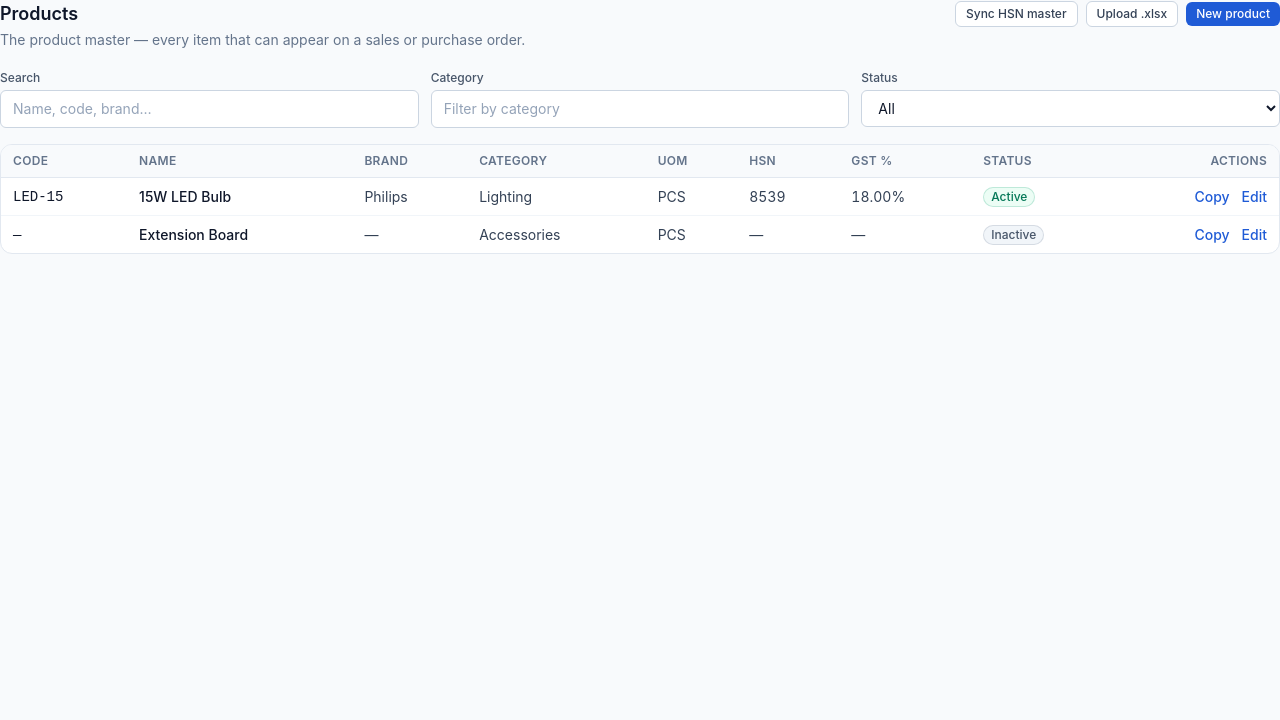
Test case: ProductsPage › blocks an out-of-range gst_rate inline
The width and height of the screenshot is (1280, 720).
Expected: the text "15W LED Bulb" is shown, [127,178,352,216]
Click the button "New product": [1233, 14] box [1186,2,1279,26]
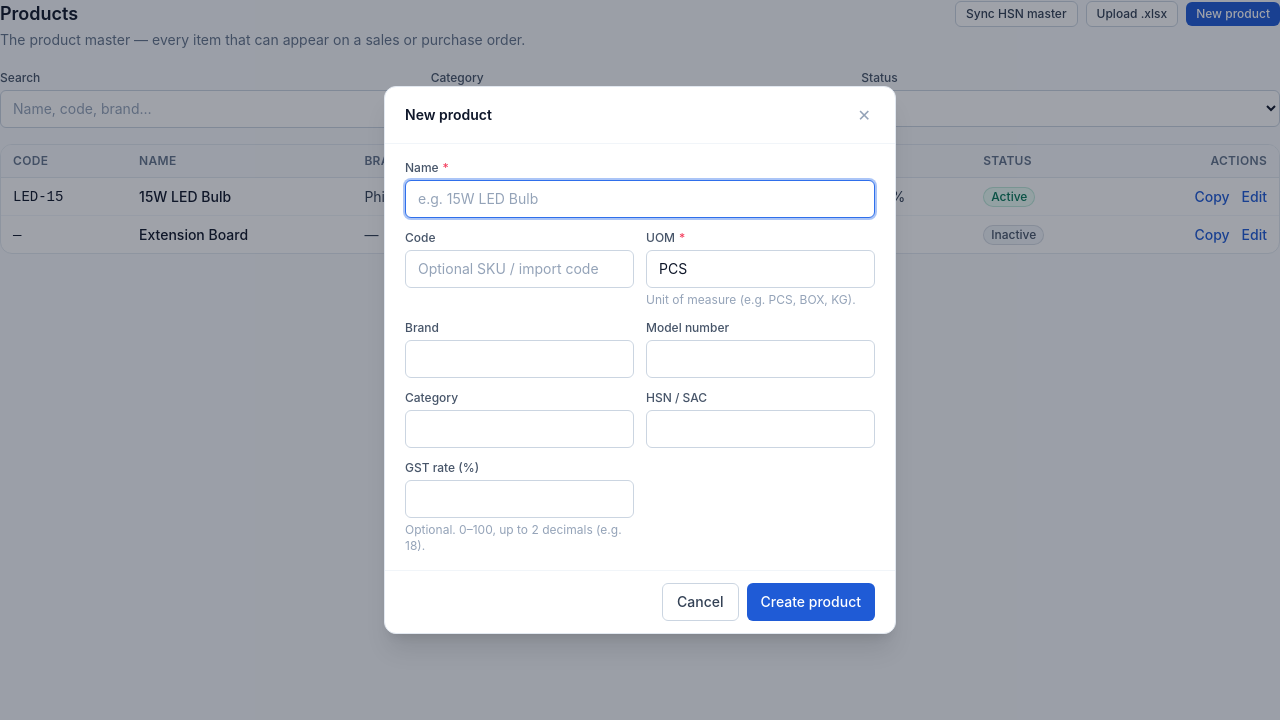
In the field labelled "Name *": [640, 199] box [405,180,875,218], type "Bad Tax"
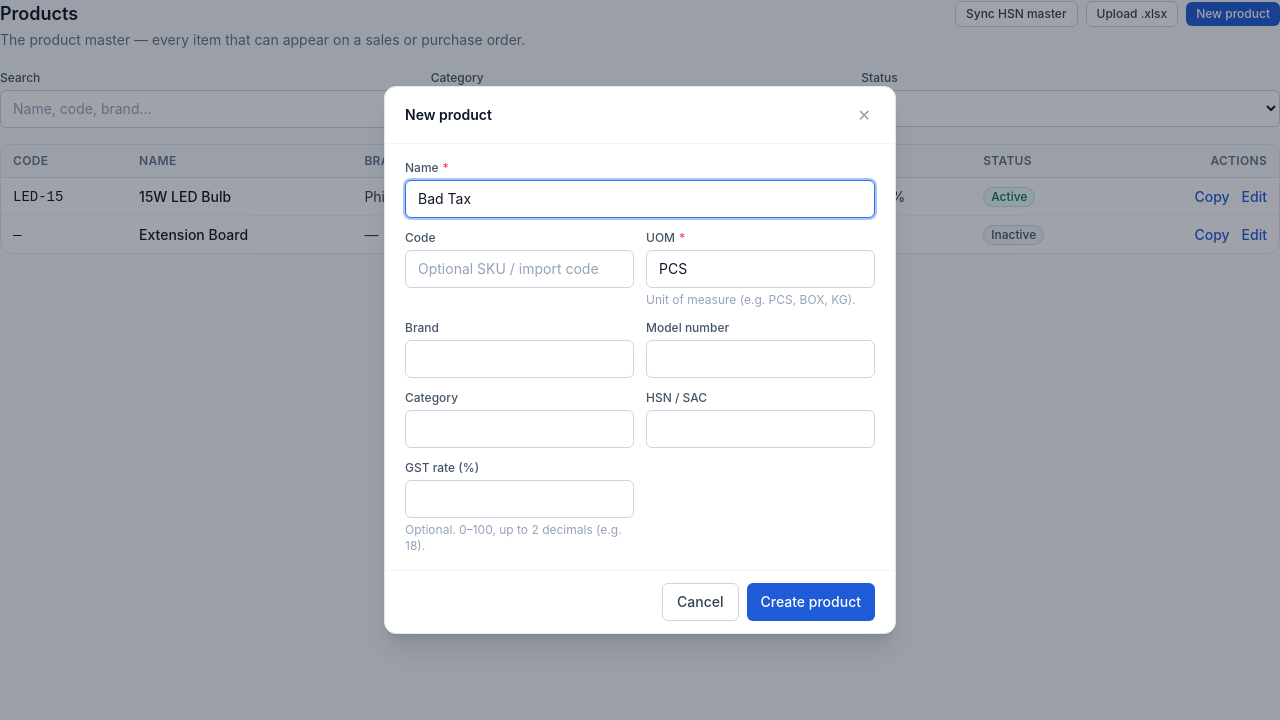
In the field labelled "GST rate (%) Optional. 0–100, up to 2 decimals (e.g. 18).": [520, 499] box [405,480,634,518], type "150"
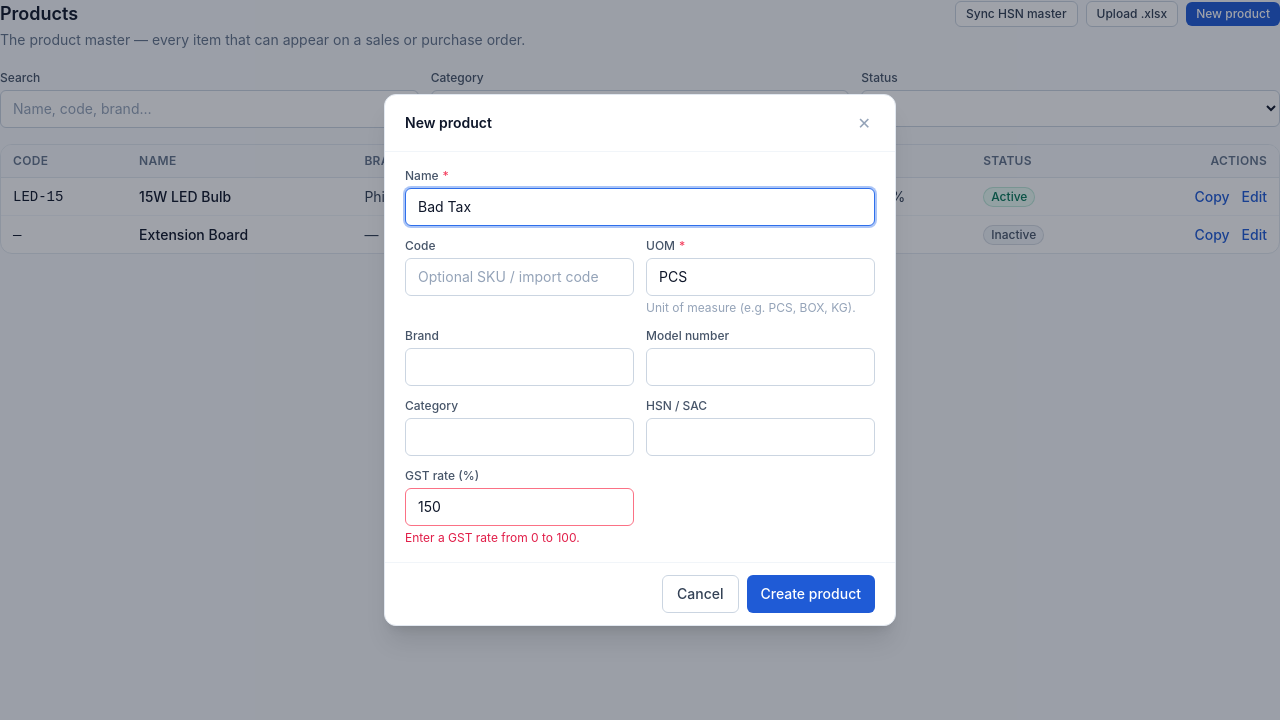
Expected: the text "Enter a GST rate from 0 to 100." is shown, [405,530,580,545]
Expected: the button "Create product" is disabled, [746,575,875,613]
